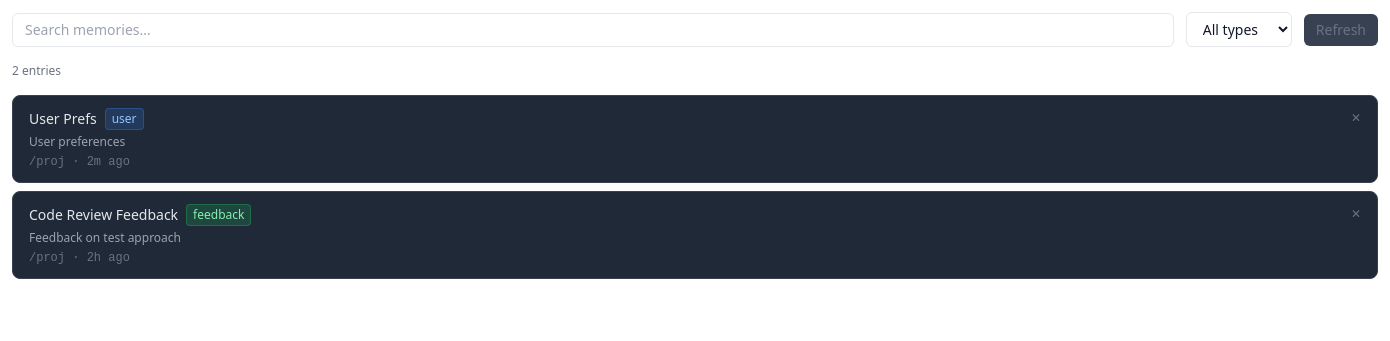
Test: MemoryViewer › expands entry content on click
Click the text "User Prefs". click: (63, 119)
box: top-left (29, 109), bottom-right (97, 129)
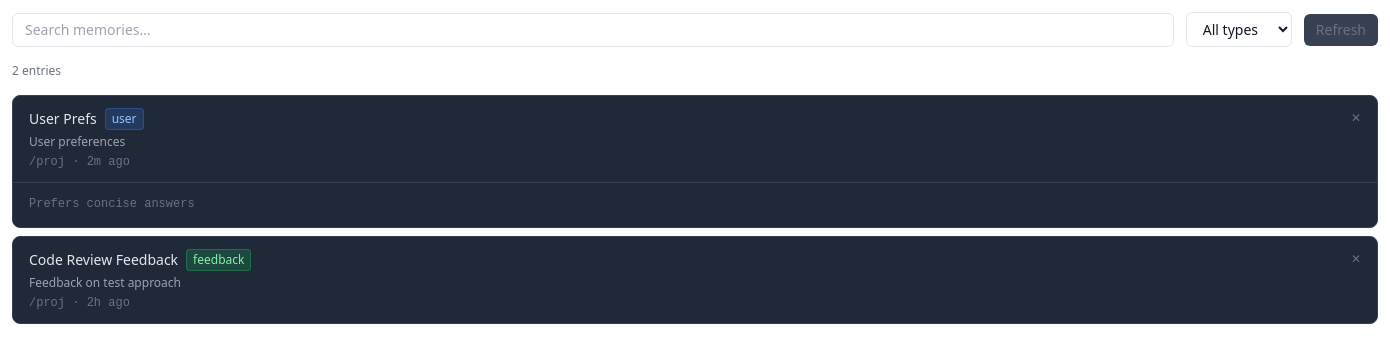
expect the text "Prefers concise answers" is shown: met, box top-left (29, 197), bottom-right (195, 211)
